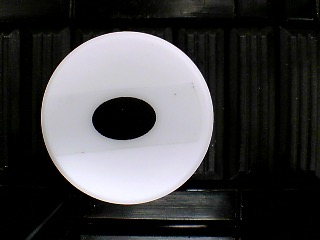BOHOEL: (39, 30, 215, 205)
